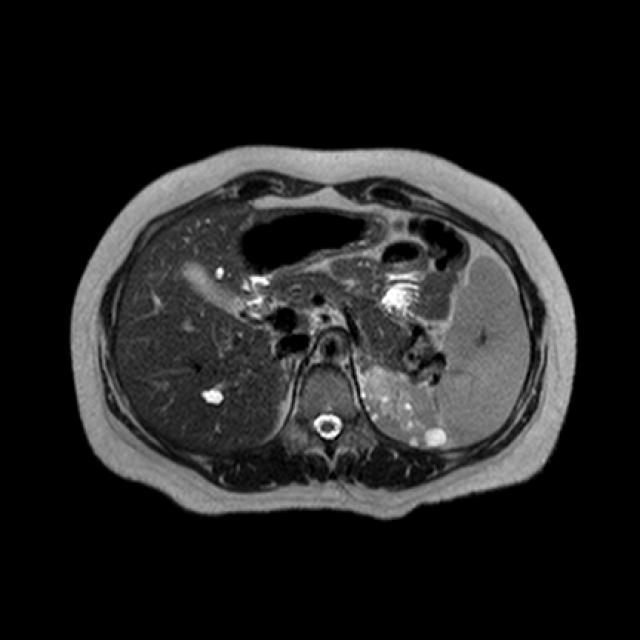sol: (361, 367, 454, 450)
